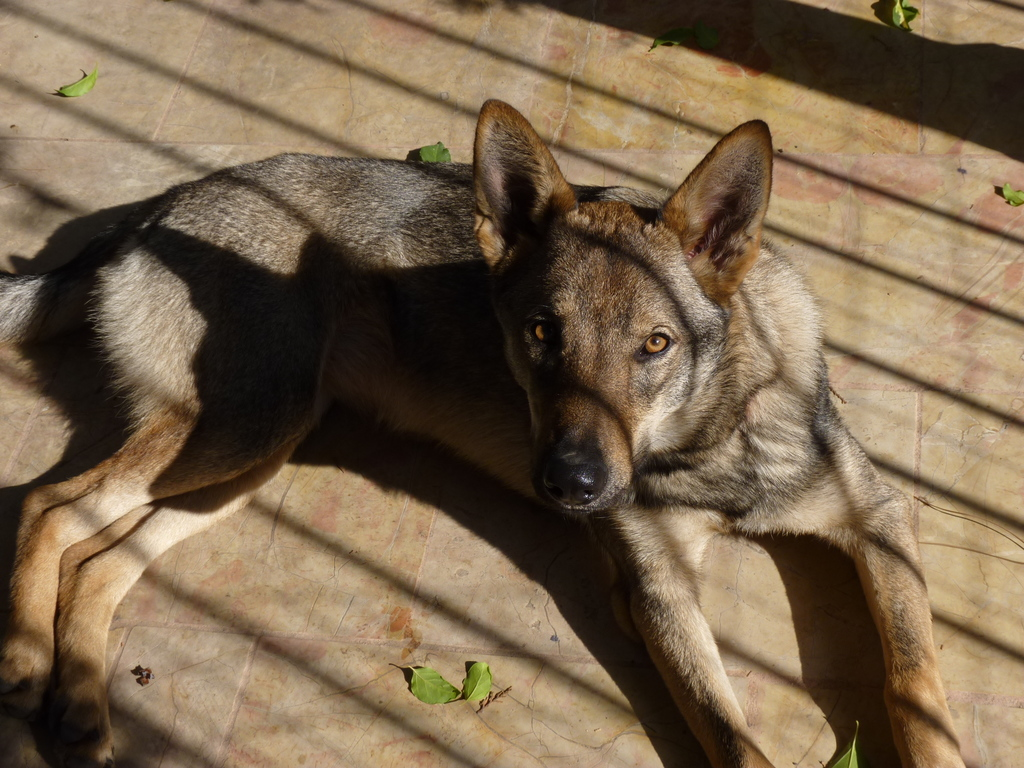Animal: (0, 94, 972, 764)
